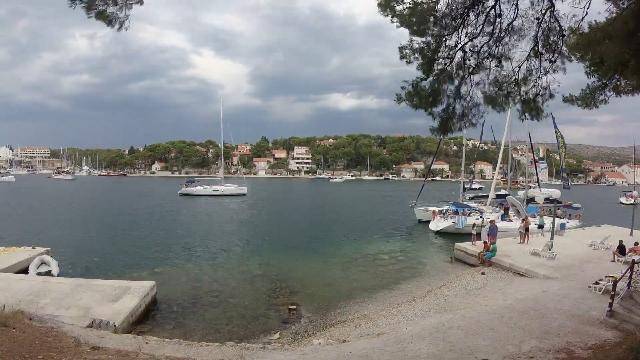Freighter: (46, 164, 82, 184)
Sailboat: (171, 174, 253, 202), (1, 167, 22, 186)
speedboat: (326, 174, 348, 187)
